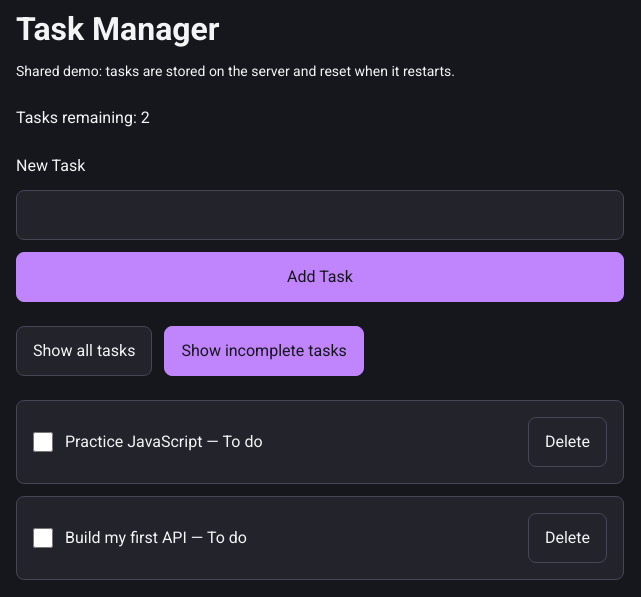
Test case: removes newly completed tasks from the incomplete filter
The image size is (641, 597).
Expected: the field labelled "New Task" is enabled, [16,190,624,240]
Click the checkbox named "Practice JavaScript".
click(43, 442)  # box [33,432,53,452]
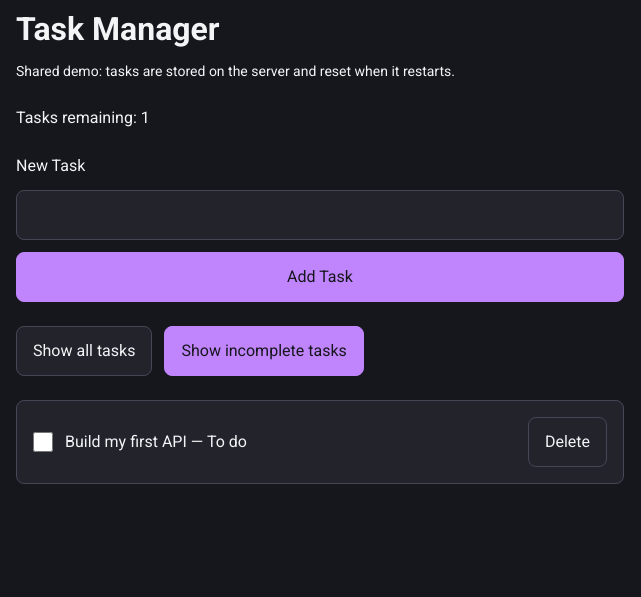
Expected: the text "Practice JavaScript" is gone
